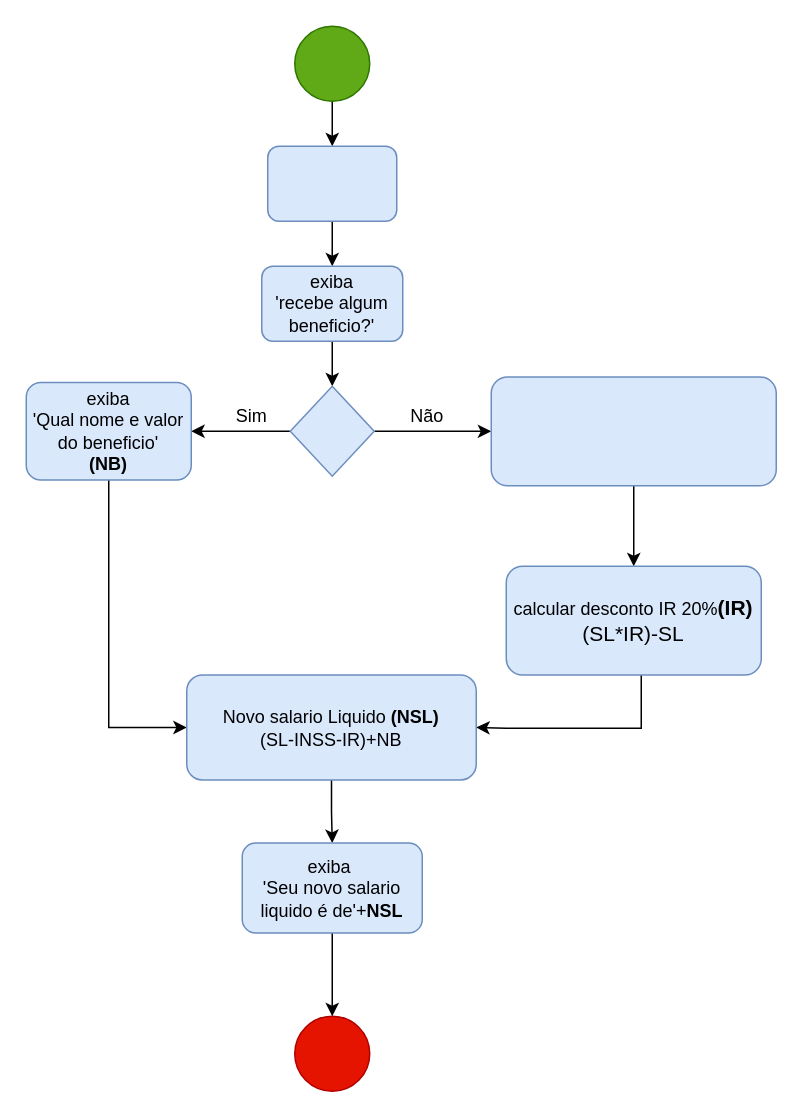
Some shapes in this 803 by 1118 pixel diagram are drawn without their labels. Here are the shapes that lost their labels. From the top down, the centre of each, then its label:
At point (331, 183): "insira salario bruto (SL)".
At point (633, 430): "calcular desconto inss 10% (INSS) (SL*INSS)-SL".
